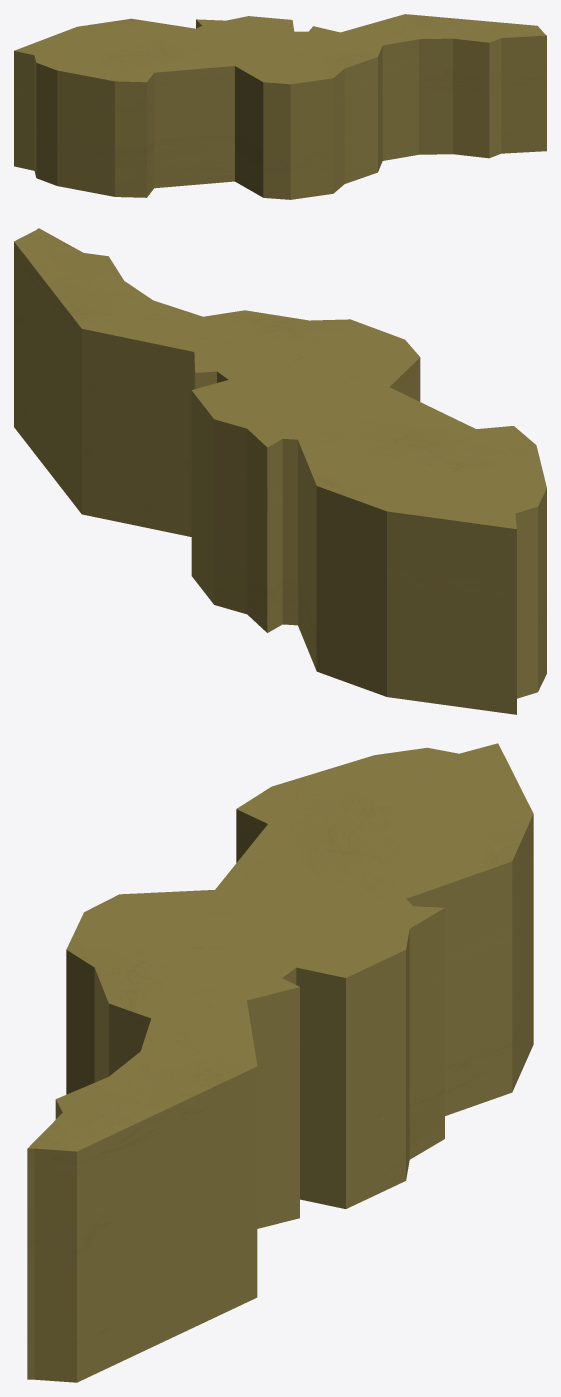
File: czechoslovakia.DAE
3 renders of one model, top to bottom at view 1: azimuth 30°, elevation 25°; view 2: azimuth 150°, elevation 25°; view 3: azimuth 270°, elevation 25°, orthographic. The views are drawn at different scales.
Visible parts, largest first — view 1: Czechoslovakia; view 2: Czechoslovakia; view 3: Czechoslovakia.
Part boxes in pixels (x1=…): Czechoslovakia: x1=14, y1=14, x2=546, y2=199; Czechoslovakia: x1=14, y1=228, x2=546, y2=714; Czechoslovakia: x1=27, y1=743, x2=533, y2=1382.
Bounding box in the file's own units: 94.7 × 49.61 × 25.
1 material, 1 textured.
